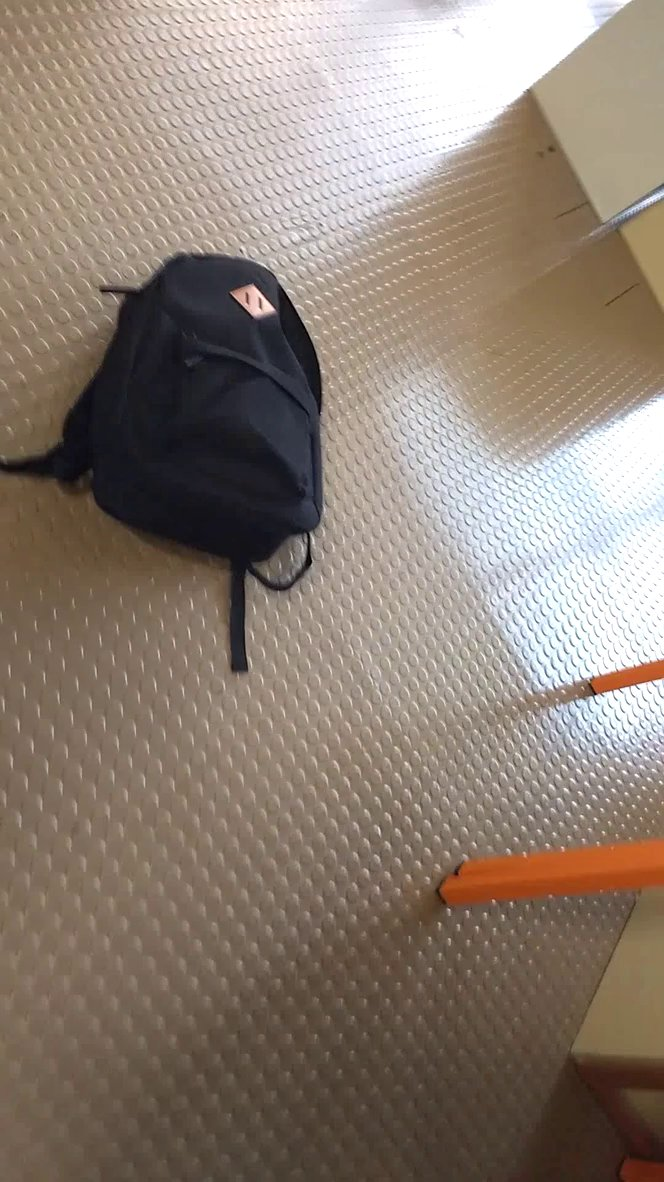bag: (2, 212, 336, 689)
